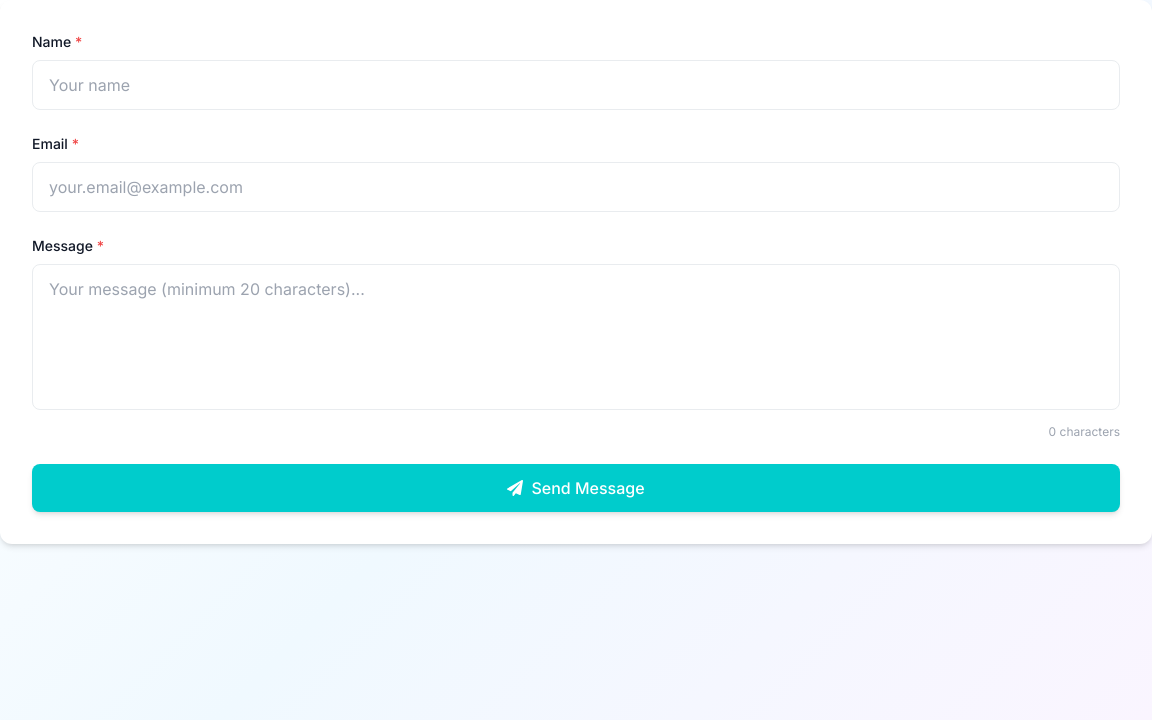
Test: ContactForm › submits form with valid data
Type "John Doe" into the field labelled "Name *" at (576, 85), box [32, 60, 1120, 110]
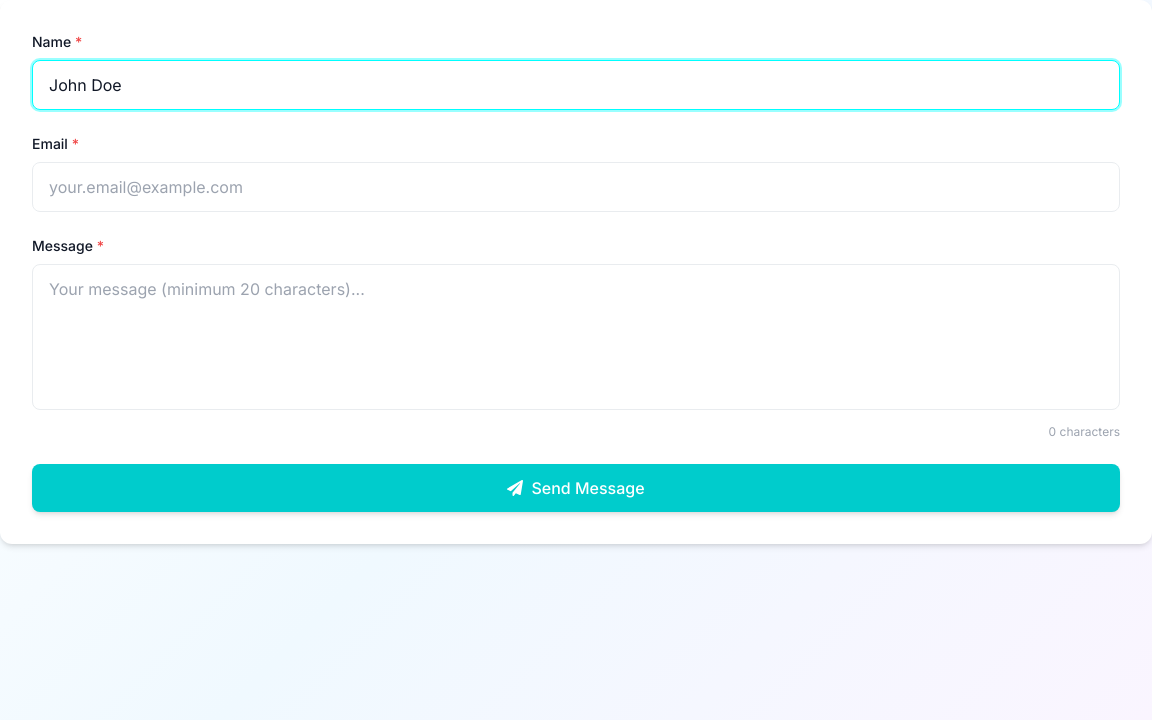
Type "john@example.com" into the field labelled "Email *" at (576, 187), box [32, 162, 1120, 212]
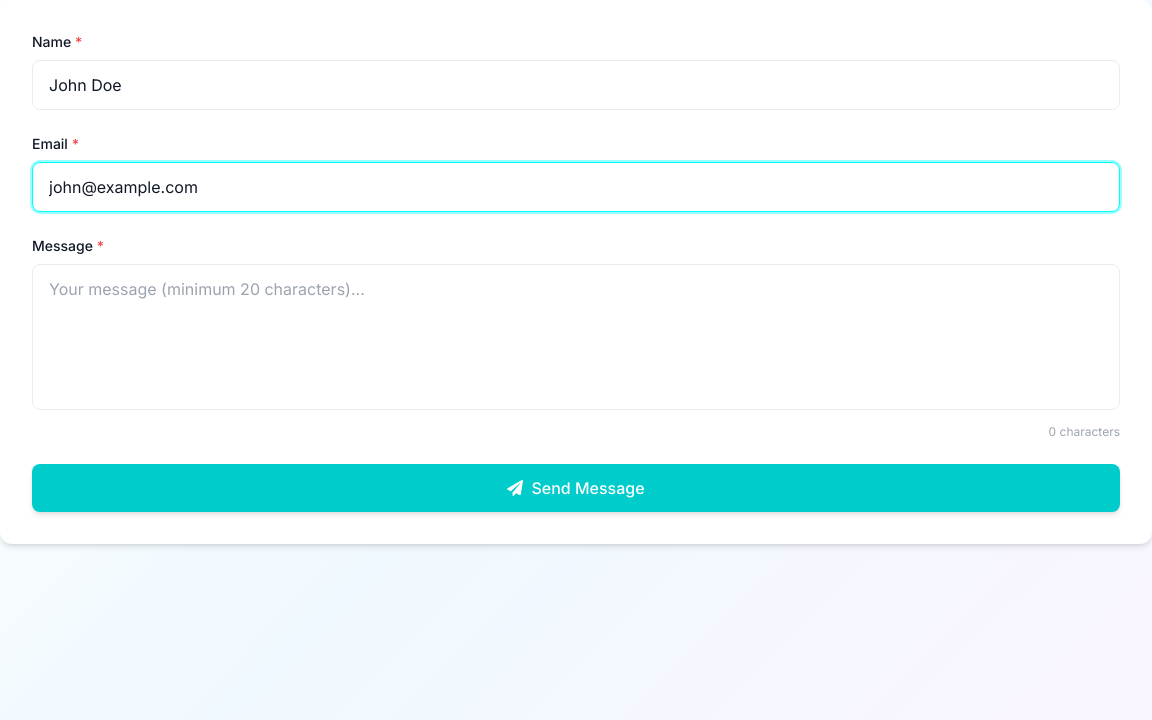
Type "This is a test message with enough characters" into the text box labelled "Message *" at (576, 337), box [32, 264, 1120, 410]
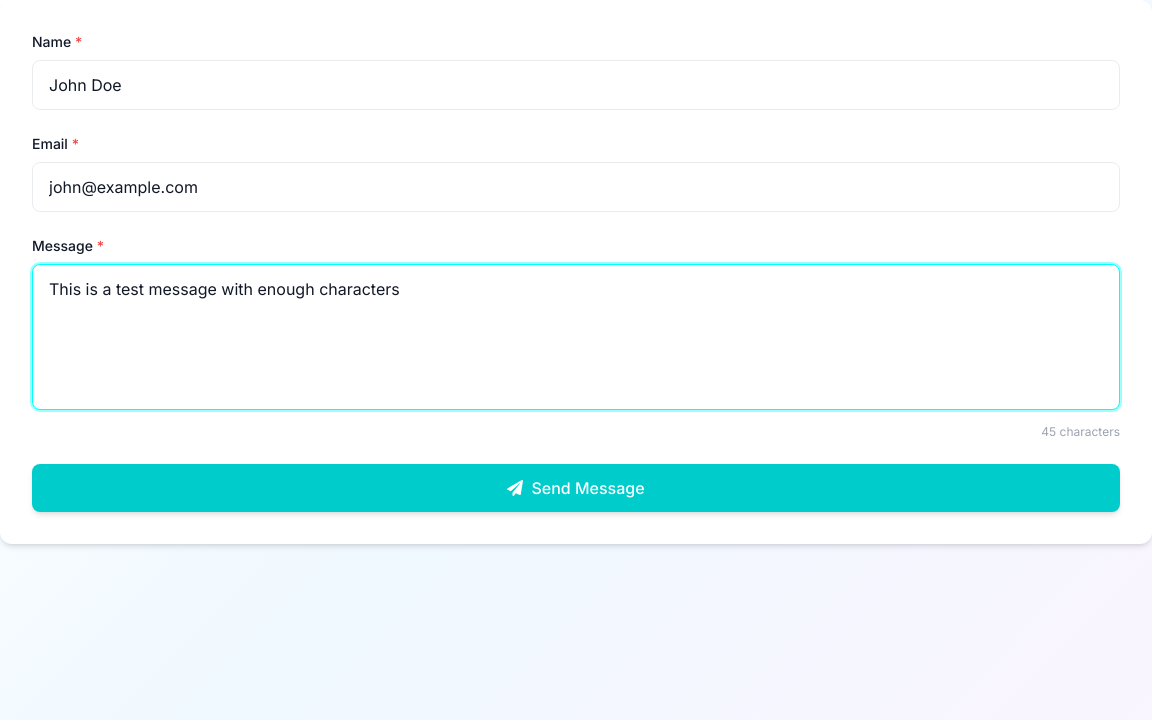
Click the button "Send Message" at (576, 488), box [32, 464, 1120, 512]
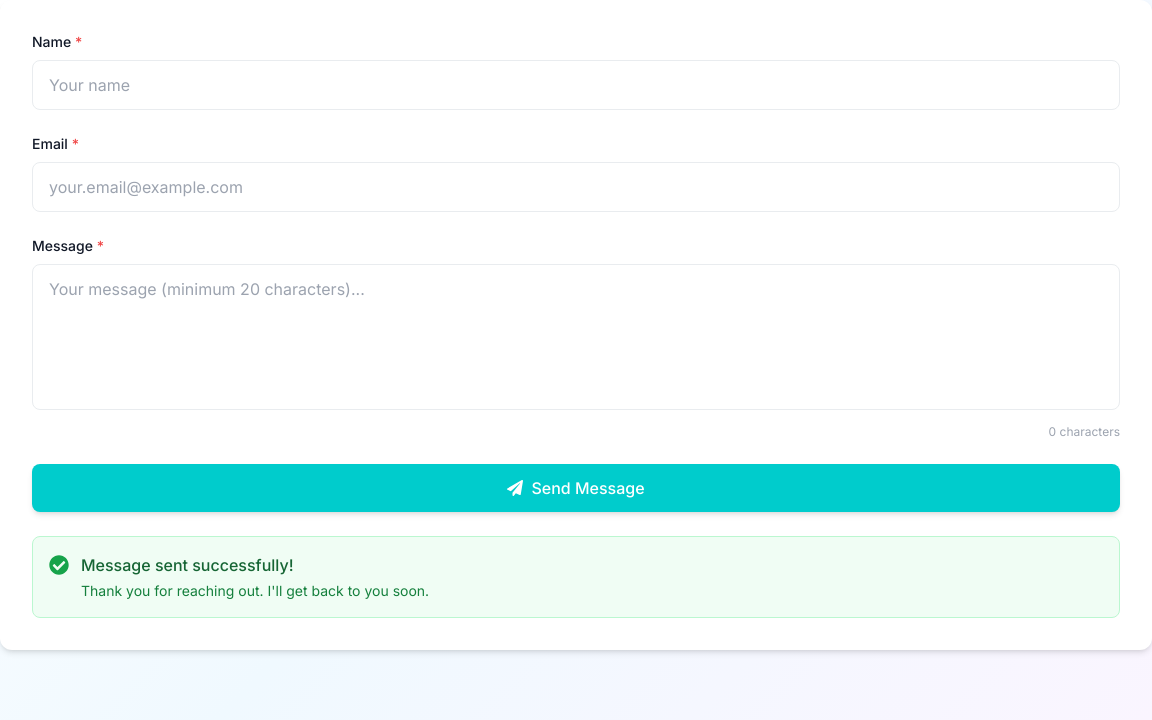
Expected: the text "Message sent successfully!" is shown, [81, 555, 294, 575]
